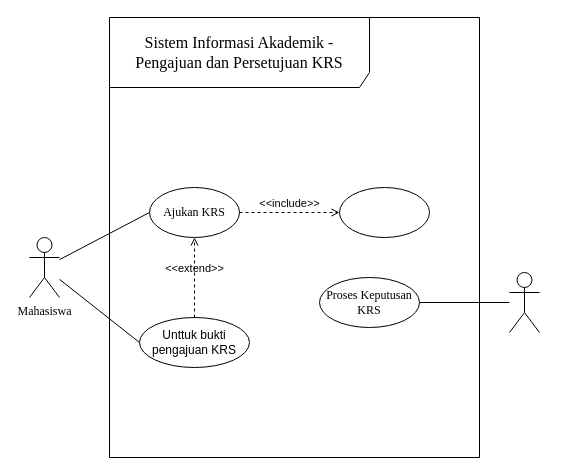
This 569x475 diagram has some shape labels left out. Here are the shapes that lost their labels. From the top down, the box of each, then its label:
(338, 186, 430, 238): Validasi KRS
(508, 272, 540, 332): Dosen Wali
